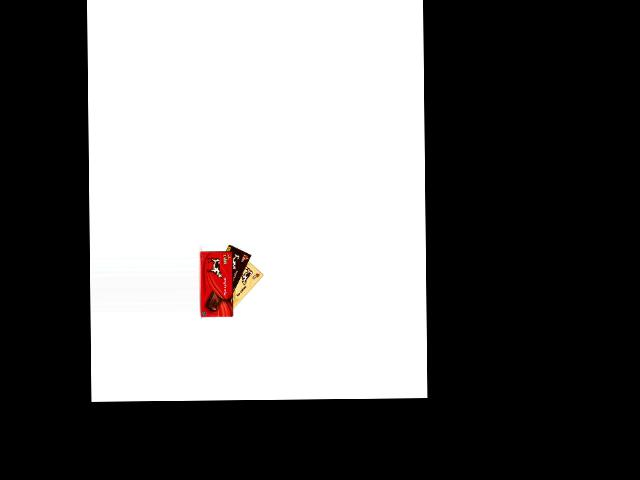chocolate: (226, 253, 264, 314)
